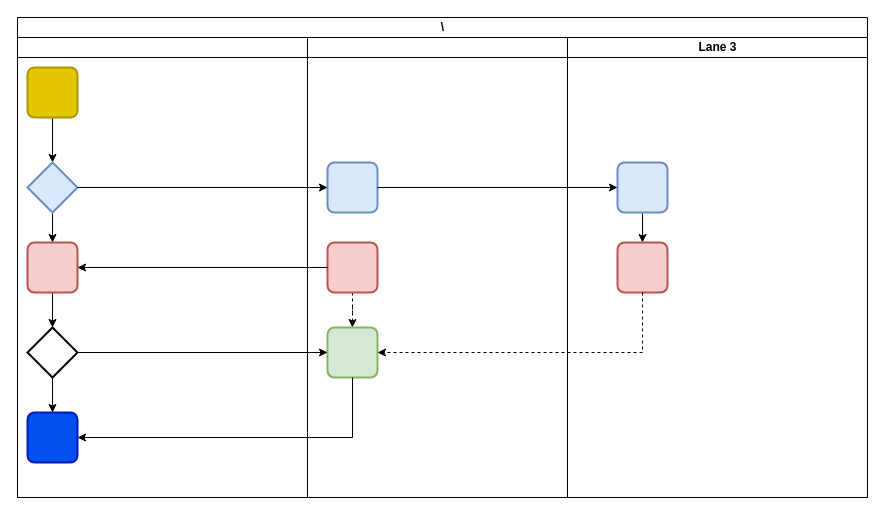
The diagram is 885 pixels wide and 515 high, and some of its shapes have lost their labels. Here are the shapes that lost their labels. From the top down, the box of each, then its label:
(16, 36, 308, 498): Node1
(306, 36, 568, 498): Lane 2
